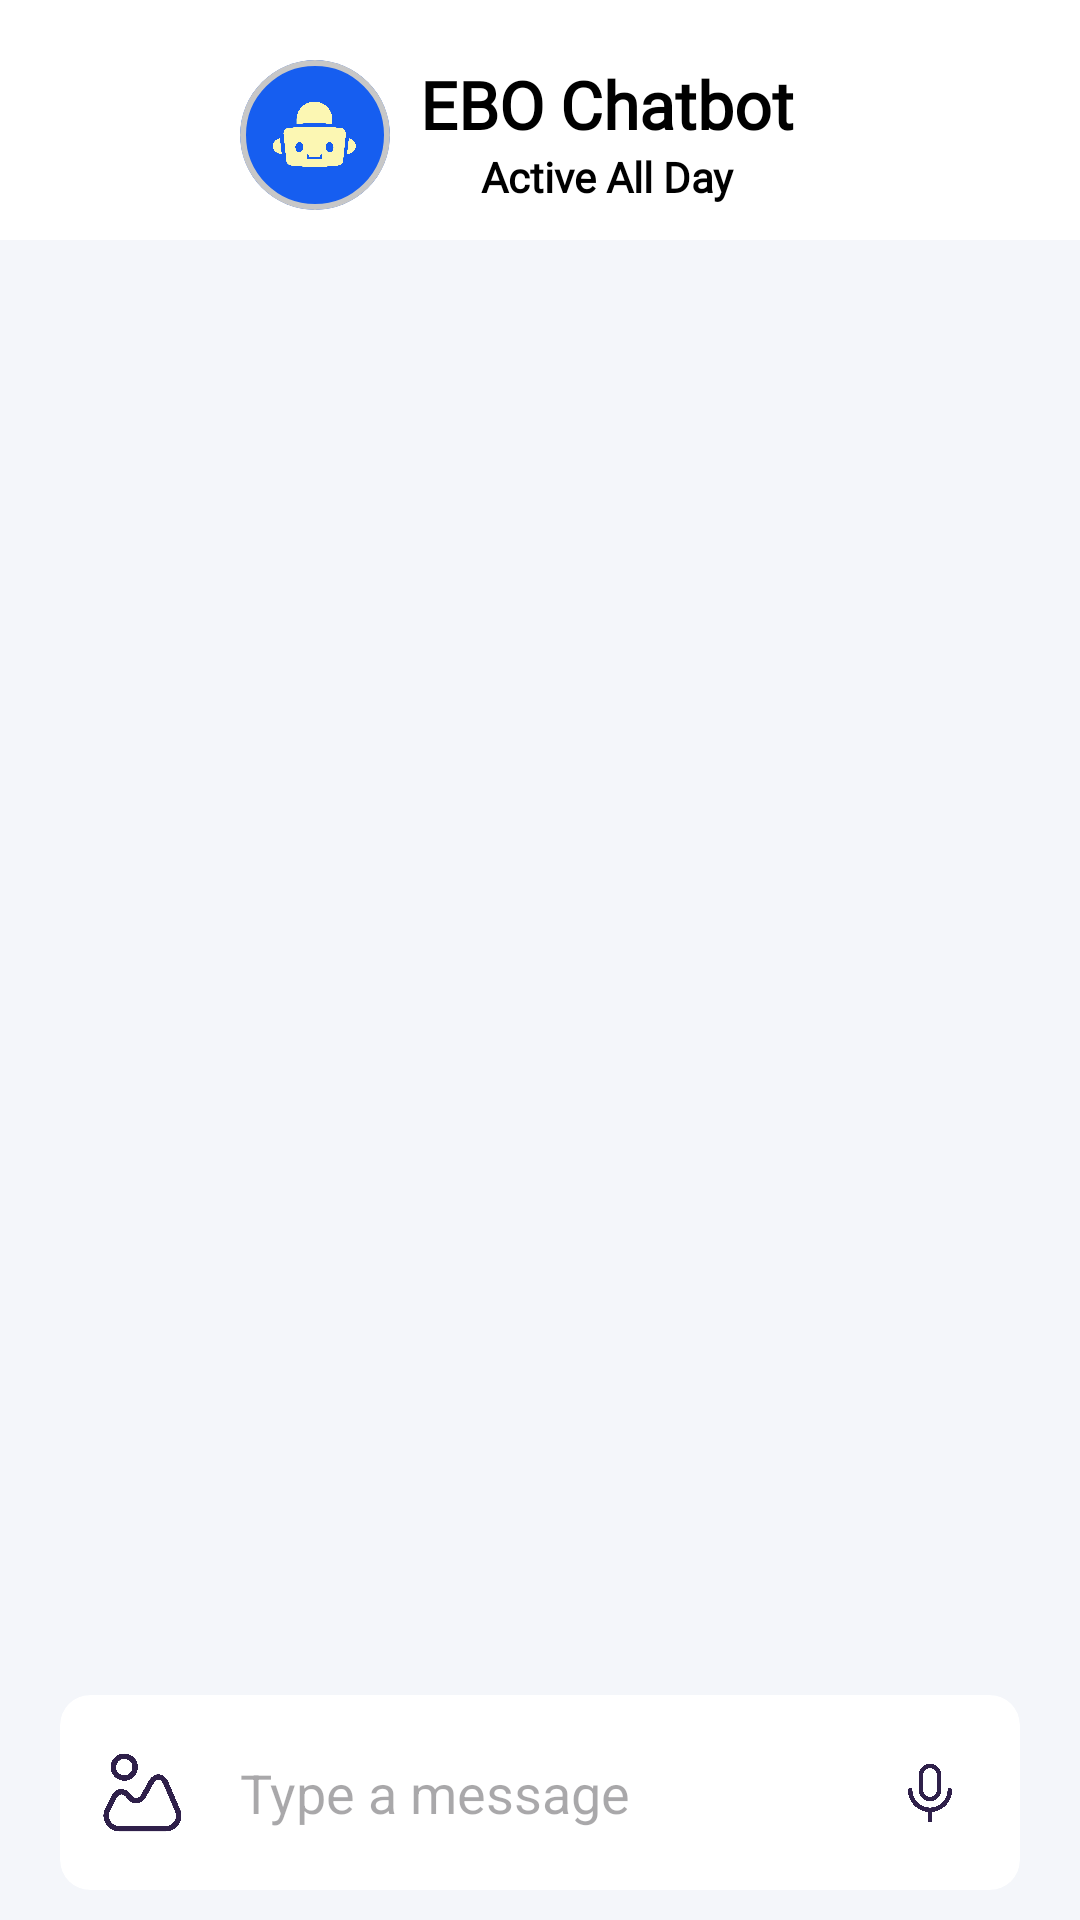

Screen size 1080*1920. Icon name, then its box in pixels as bbox=(x1, y1, x2, y2):
mic: bbox=(908, 1764, 952, 1822)
photo: bbox=(103, 1754, 181, 1831)
